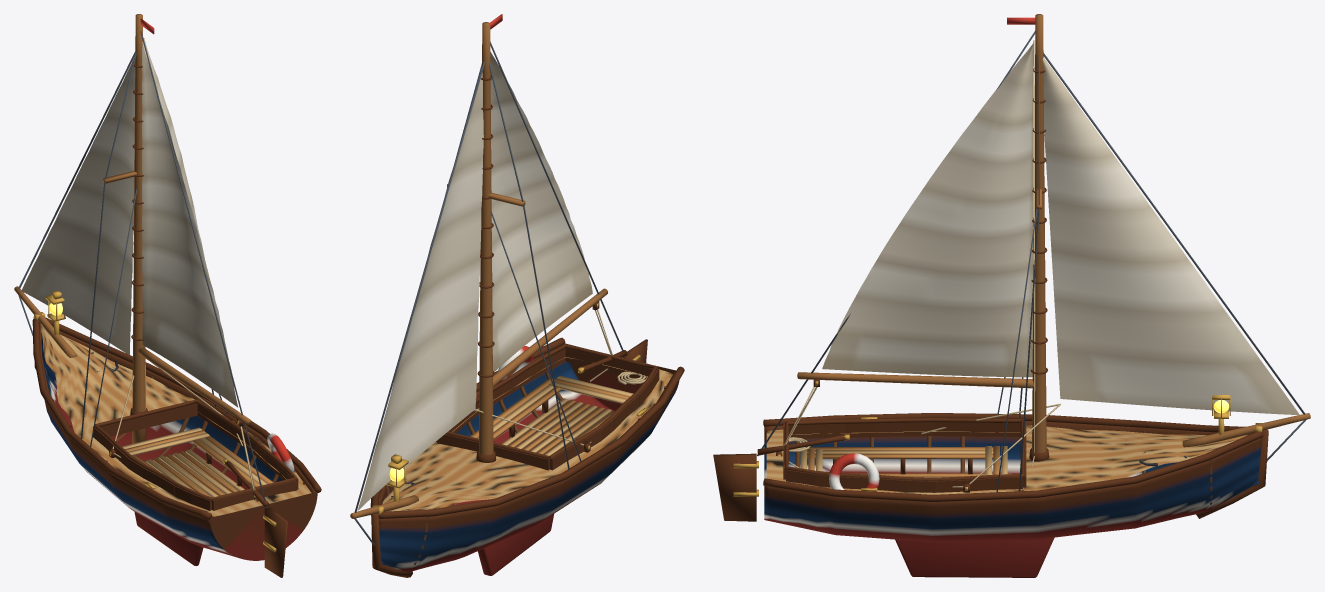
The model's file is sailboat.glb.
3 renders of one model, left to right at view 1: azimuth 30°, elevation 25°; view 2: azimuth 150°, elevation 25°; view 3: azimuth 270°, elevation 25°, orthographic. The views are drawn at different scales.
Visible parts, largest first — view 1: MainSail, JibSail, BoatHull, BoatDeck, SparsAndMast, CockpitCoaming, RiggingLines, StemAndTransom, GunwaleTrim, CockpitFloor, CockpitBenches, CockpitCoamingRail (+5 smaller); view 2: JibSail, MainSail, BoatHull, BoatDeck, SparsAndMast, CockpitCoaming, RiggingLines, GunwaleTrim, CockpitFloor, CockpitBenches, CockpitCoamingRail, StemAndTransom (+4 smaller); view 3: JibSail, MainSail, BoatHull, BoatDeck, SparsAndMast, GunwaleTrim, CockpitCoaming, BoatKeel, RiggingLines, CockpitBenches, RudderBladeAndTiller, CockpitCoamingRail (+2 smaller).
Part boxes in pixels (<box>): MainSail: <box>142,41,237,407</box>; JibSail: <box>21,59,135,355</box>; BoatHull: <box>39,322,316,557</box>; BoatDeck: <box>40,324,311,516</box>; SparsAndMast: <box>14,14,251,443</box>; CockpitCoaming: <box>93,403,298,510</box>; RiggingLines: <box>18,30,267,507</box>; StemAndTransom: <box>33,317,317,560</box>; GunwaleTrim: <box>32,317,321,519</box>; CockpitFloor: <box>143,449,244,497</box>; CockpitBenches: <box>122,427,287,511</box>; CockpitCoamingRail: <box>94,399,297,501</box>; JibSail: <box>357,72,483,510</box>; MainSail: <box>490,51,592,371</box>; BoatHull: <box>378,343,678,572</box>; BoatDeck: <box>382,357,673,511</box>; SparsAndMast: <box>350,14,607,518</box>; CockpitCoaming: <box>436,348,659,470</box>; RiggingLines: <box>354,41,647,545</box>; GunwaleTrim: <box>370,337,684,518</box>; CockpitFloor: <box>501,398,614,455</box>; CockpitBenches: <box>470,375,633,440</box>; CockpitCoamingRail: <box>445,344,657,459</box>; StemAndTransom: <box>371,343,679,577</box>; JibSail: <box>1042,57,1299,415</box>; MainSail: <box>822,43,1033,377</box>; BoatHull: <box>764,421,1261,542</box>; BoatDeck: <box>766,425,1247,494</box>; SparsAndMast: <box>797,14,1310,461</box>; GunwaleTrim: <box>763,413,1262,501</box>; CockpitCoaming: <box>783,421,1026,492</box>; BoatKeel: <box>895,537,1054,577</box>; RiggingLines: <box>757,31,1306,492</box>; CockpitBenches: <box>800,446,1007,475</box>; RudderBladeAndTiller: <box>713,434,845,521</box>; CockpitCoamingRail: <box>784,418,1024,480</box>.
Size of the model in its own units: 2.69 by 8.27 by 7.97.
